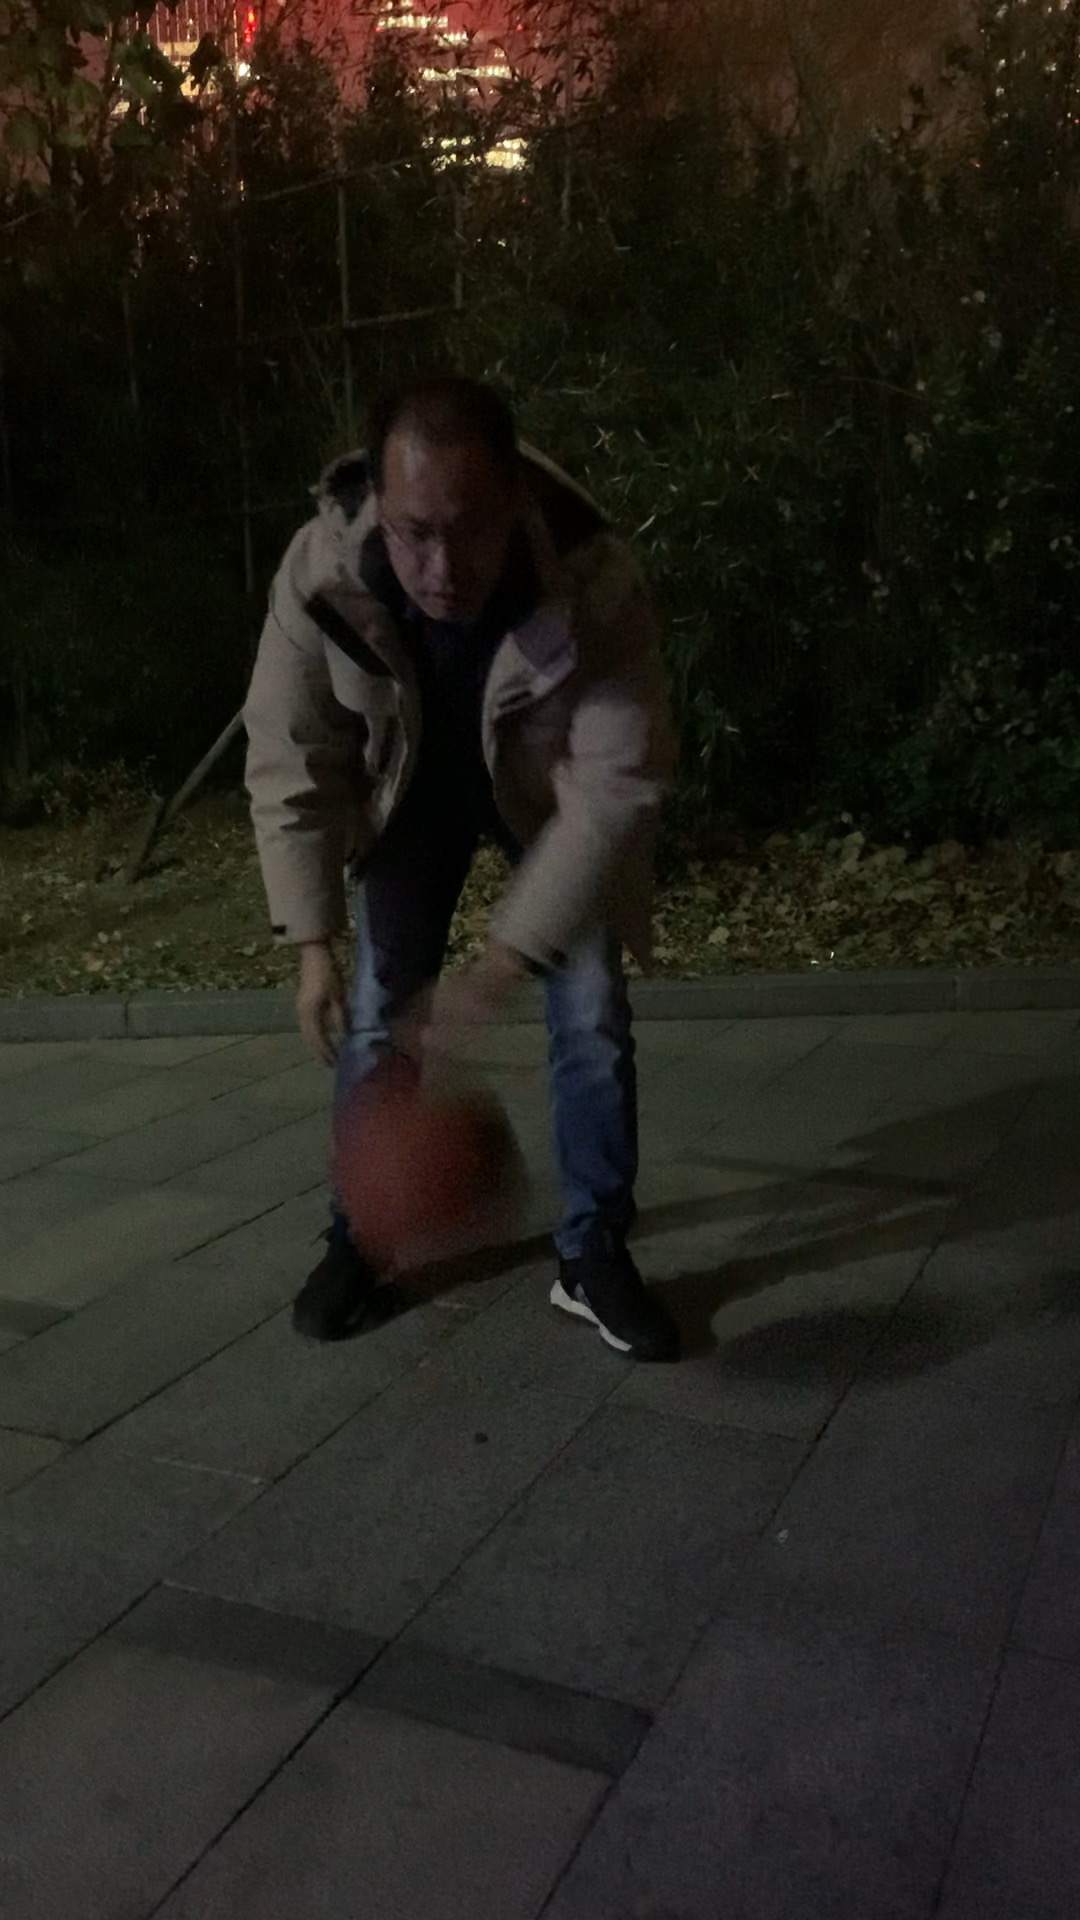ball: (332, 1084, 531, 1263)
